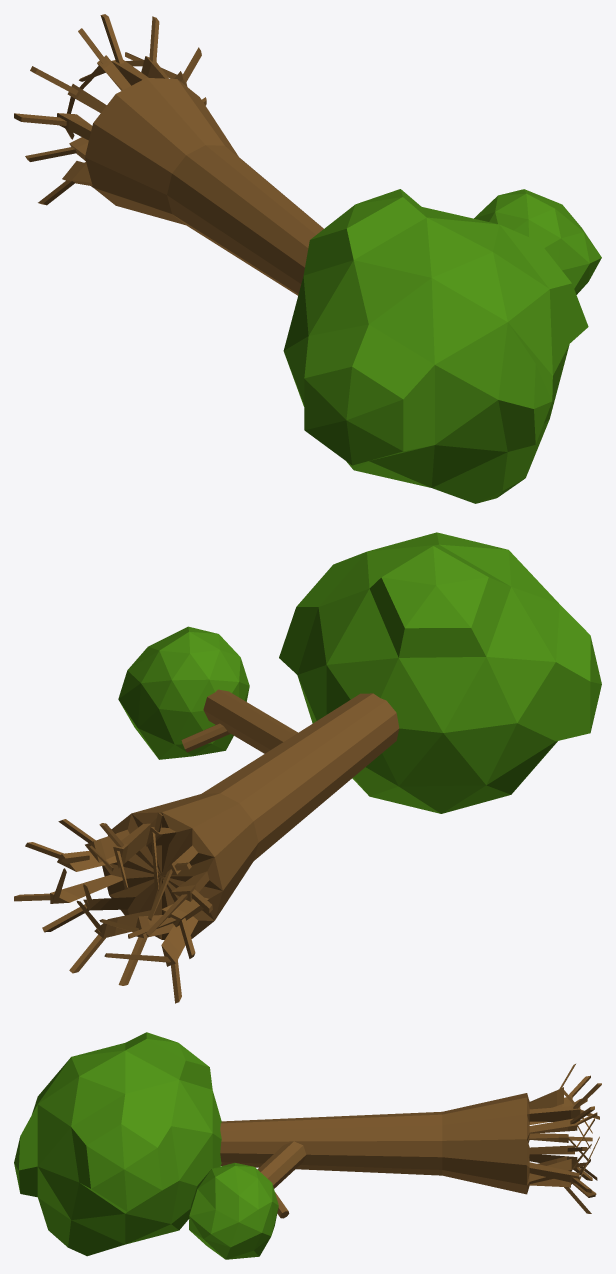
The model's file is SM_LeafTree1_FallDown.fbx.
3 views of the same model, one above another, from view 1: azimuth 30°, elevation 25°; view 2: azimuth 150°, elevation 25°; view 3: azimuth 270°, elevation 25° (orthographic). The views are drawn at different scales.
Parts seen in each view (by area): view 1: SM_LeafTree1_FallDown; view 2: SM_LeafTree1_FallDown; view 3: SM_LeafTree1_FallDown.
Part boxes in pixels (<box>): SM_LeafTree1_FallDown: <box>14,14,601,503</box>; SM_LeafTree1_FallDown: <box>14,532,601,1003</box>; SM_LeafTree1_FallDown: <box>14,1032,601,1259</box>.
Bounding box in the file's own units: 734 × 524 × 1387.
